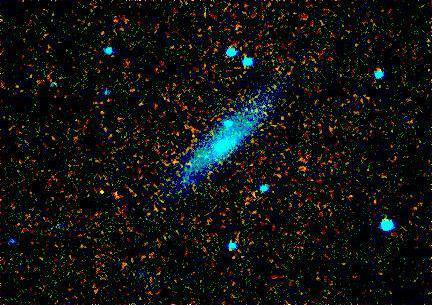star: (87, 179, 117, 209)
